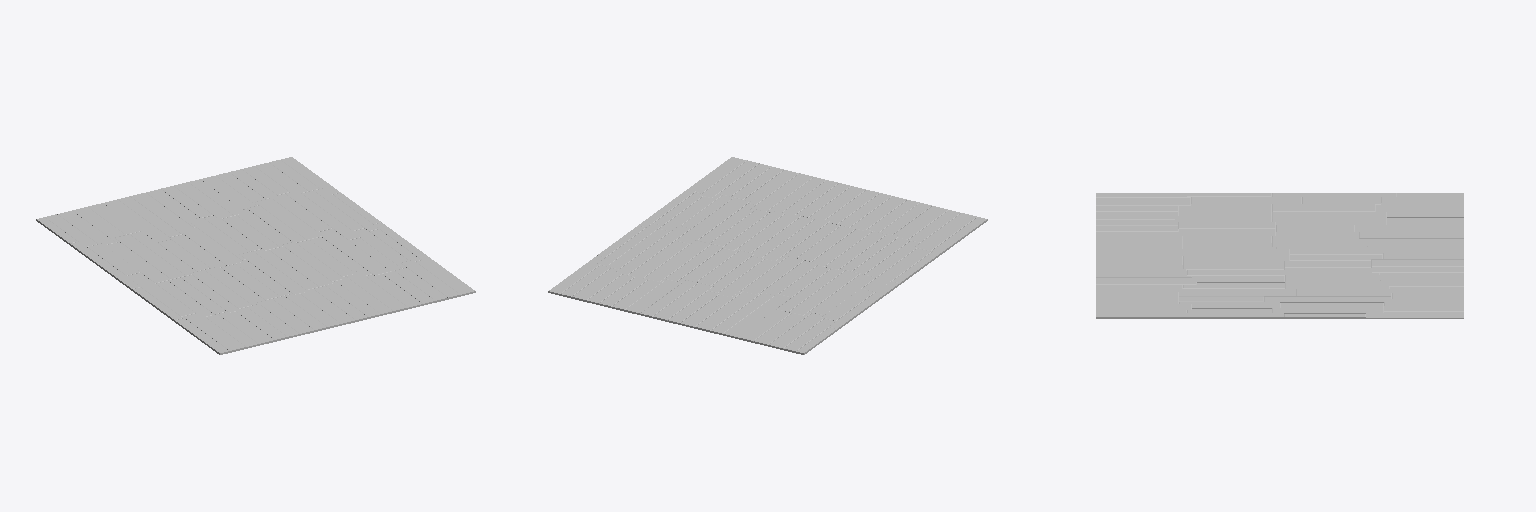
Rendered from floor.obj.
3 views of the same model, side by side, from view 1: azimuth 30°, elevation 25°; view 2: azimuth 150°, elevation 25°; view 3: azimuth 270°, elevation 25° (orthographic).
Parts seen in each view (by area): view 1: floor_Cube.240; view 2: floor_Cube.240; view 3: floor_Cube.240.
Part boxes in pixels (left/top/right/bottom): floor_Cube.240: left=36, top=157, right=475, bottom=354; floor_Cube.240: left=548, top=157, right=987, bottom=354; floor_Cube.240: left=1096, top=193, right=1463, bottom=318.
Bounding box in the file's own units: 15.72 × 0.1162 × 19.56.